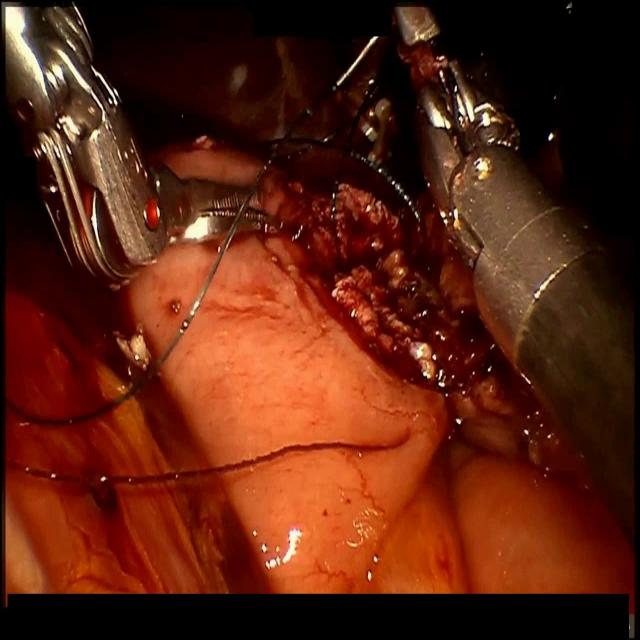surgical-area: (3, 1, 636, 596)
surgical-tool: (386, 2, 640, 551), (1, 1, 269, 290)
